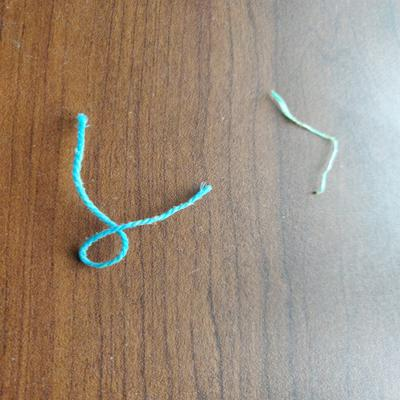thread: (64, 108, 219, 273), (262, 86, 341, 197)
